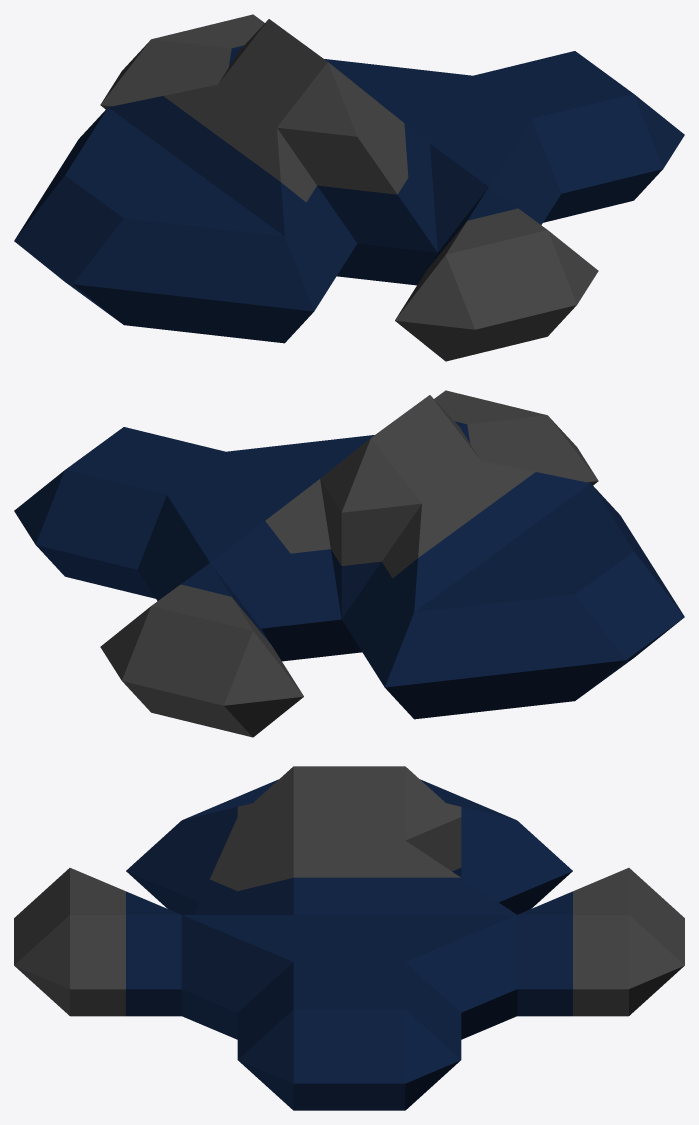
File: DAE_blue_ship.dae
3 renders of one model, top to bottom at view 1: azimuth 30°, elevation 25°; view 2: azimuth 150°, elevation 25°; view 3: azimuth 270°, elevation 25°, orthographic. The views are drawn at different scales.
Parts seen in each view (by area): view 1: node.001; view 2: node.001; view 3: node.001.
Boxes of the visible parts, box(x1,y1,x2,y2) form: node.001: box(14, 14, 684, 361); node.001: box(14, 390, 684, 737); node.001: box(14, 766, 684, 1110).
Bounding box in the file's own units: 0.6 × 0.6 × 0.2.
